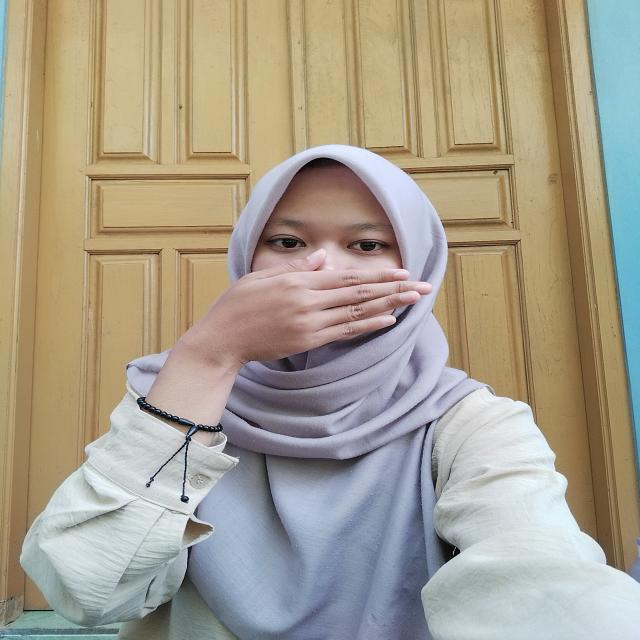buruk: (170, 235, 441, 356)
